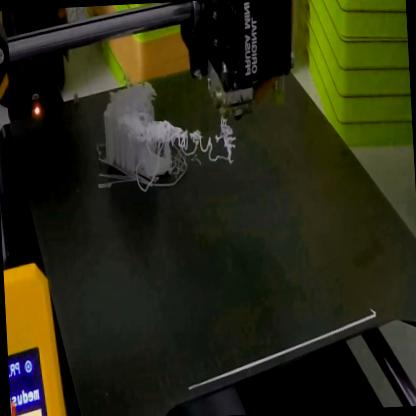fail: (147, 115, 238, 179)
